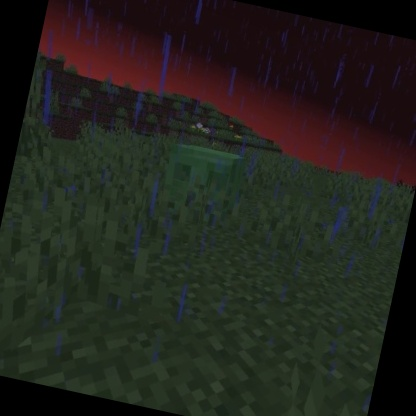slime: (157, 137, 250, 217)
